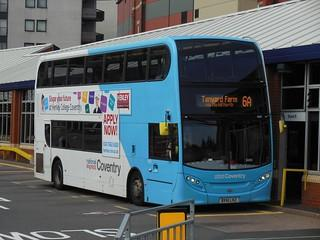bus: (32, 32, 277, 211)
